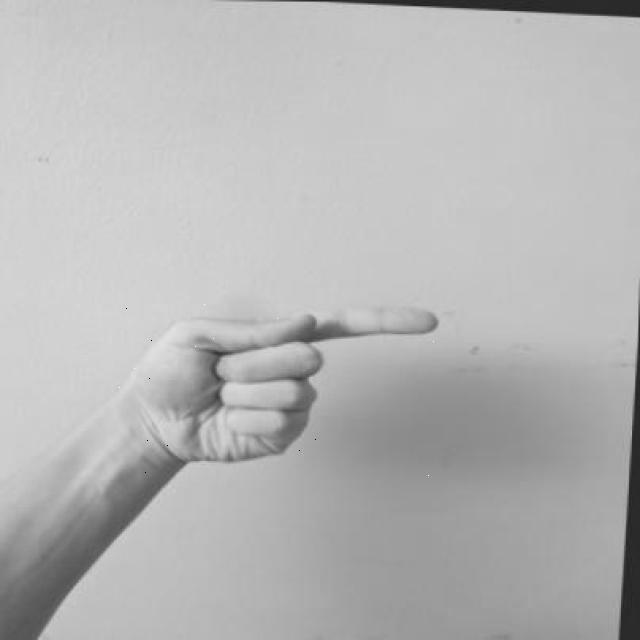G: (117, 288, 447, 476)
